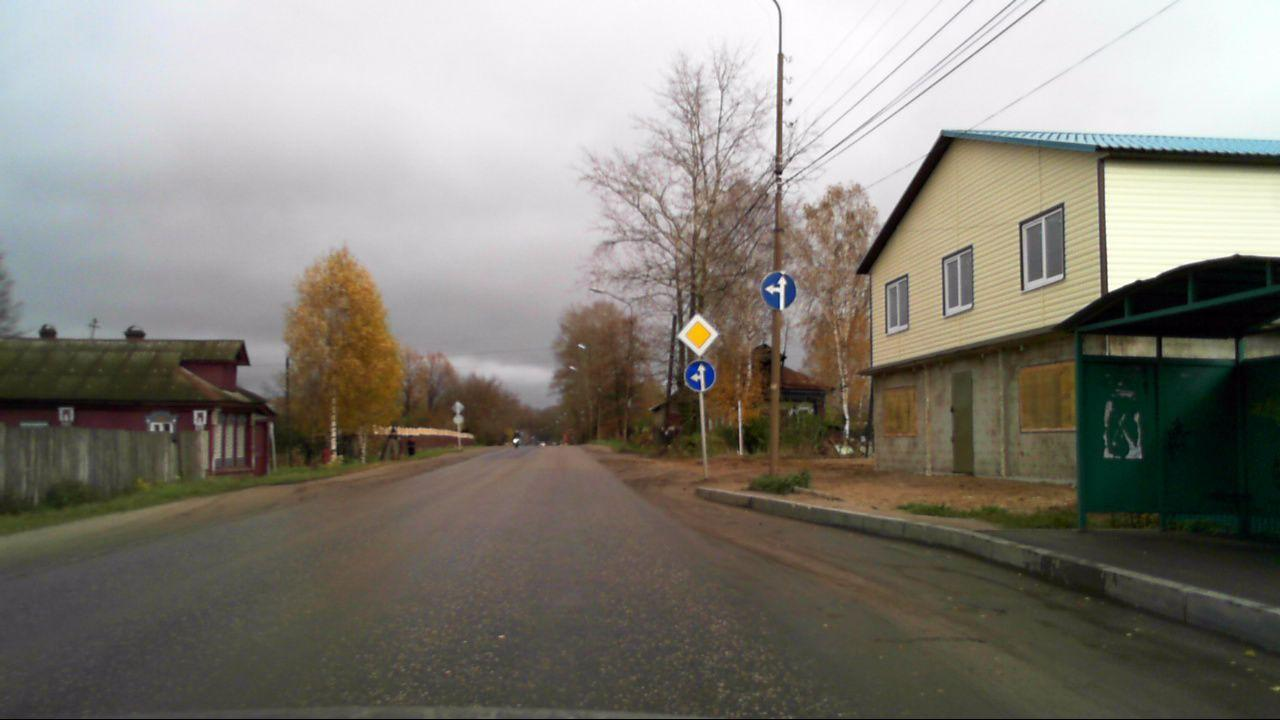2_1: (675, 312, 721, 356)
4_1_5: (761, 268, 798, 310), (684, 358, 717, 392)
